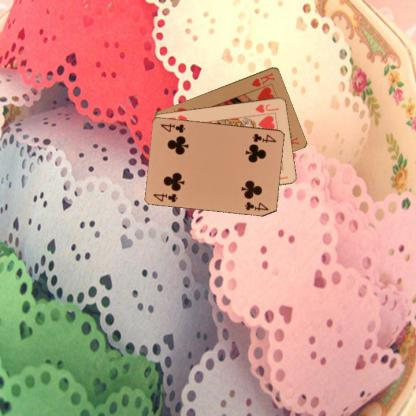4c: (250, 130, 277, 144), (151, 190, 179, 203)
Jh: (253, 102, 280, 114)
Kh: (249, 70, 276, 88)
